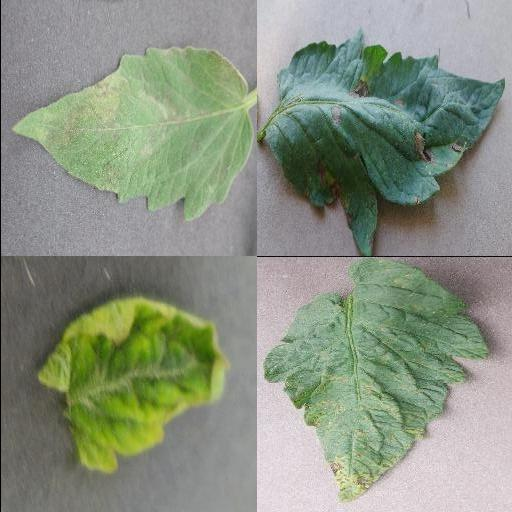Early Blight: (256, 32, 506, 256)
Late Blight: (10, 45, 252, 223)
Septoria: (261, 257, 489, 503)
Yellow Leaf Curl Virus: (34, 296, 232, 474)
